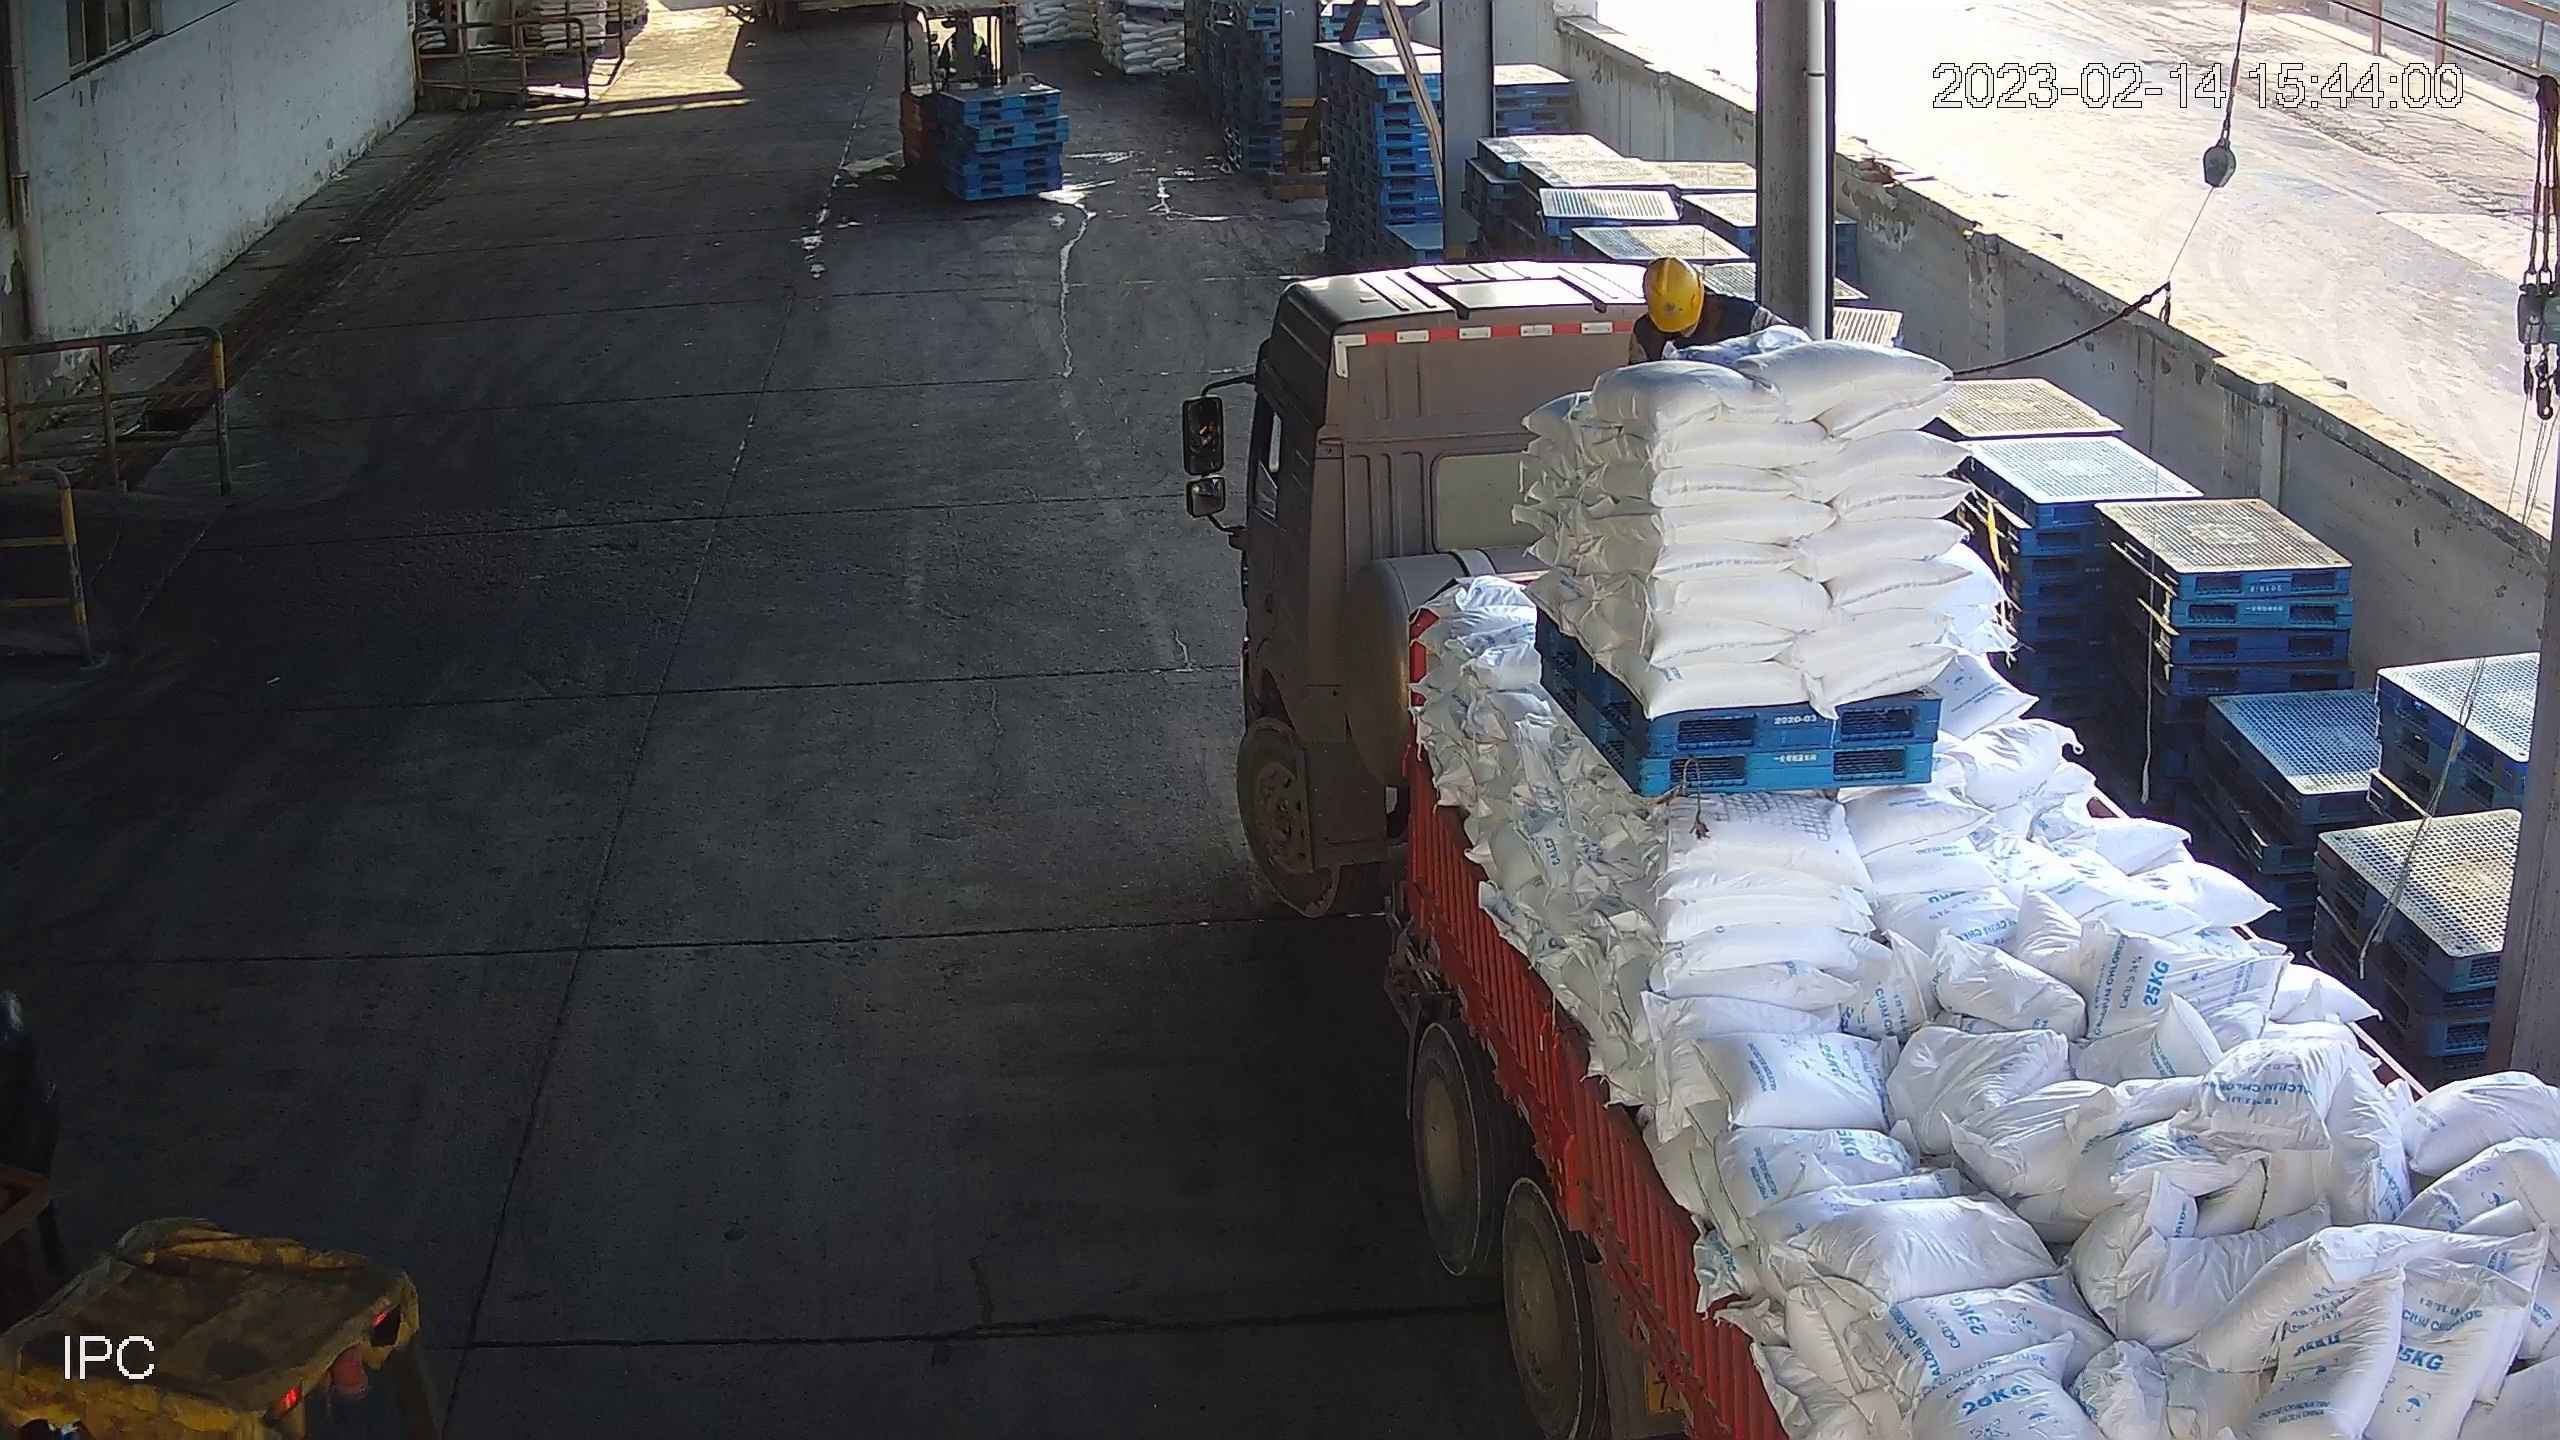head: (1635, 244, 1765, 344)
helmet: (1644, 257, 1706, 327)
truck: (1199, 243, 2560, 1440)
